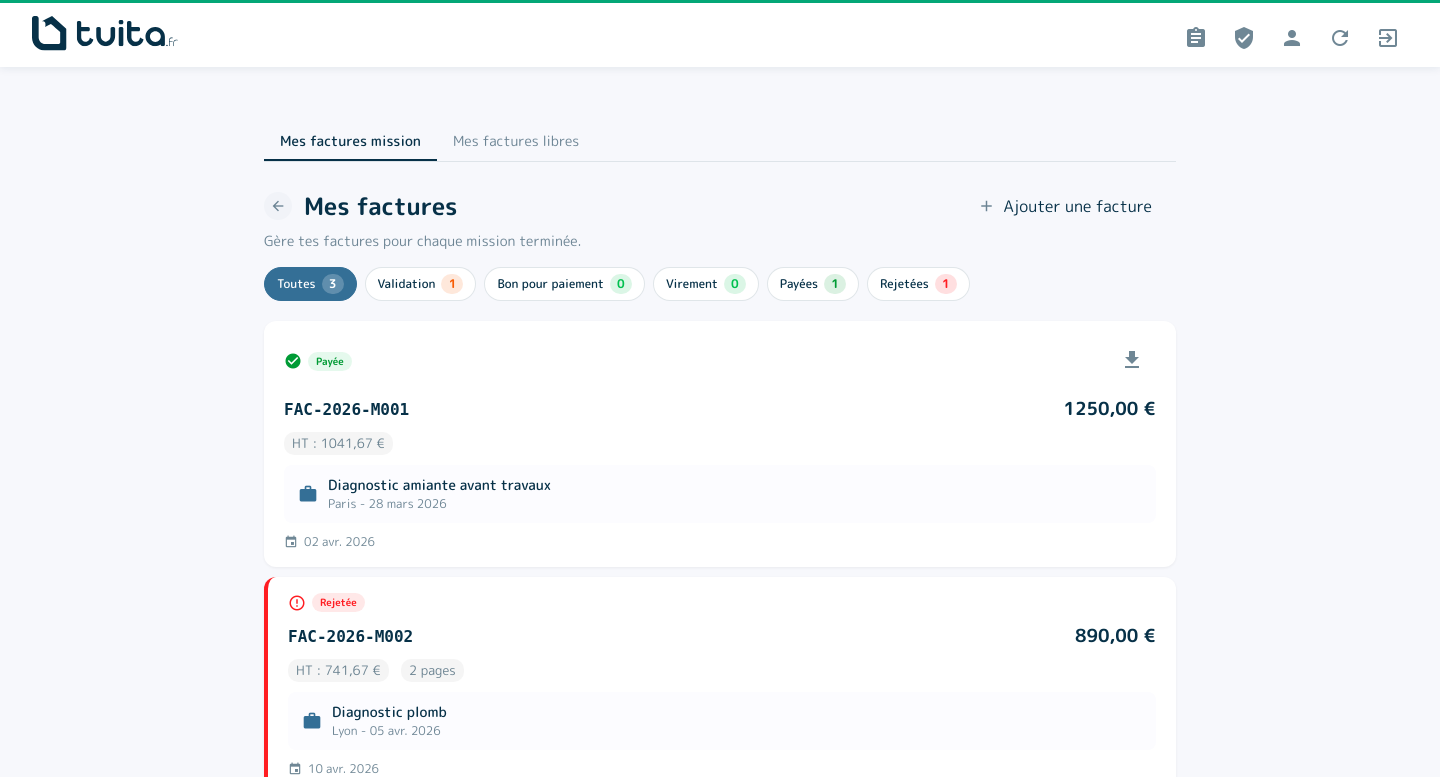
Test case: Plan Gratuit — Flow factures et souscription › Factures — rejet et correction › filtre les factures par statut rejetees
// Cliquer sur le chip de filtre « Rejetées ».
Step 1. Click the button "Rejetées 1" → point(919, 284), box [867, 267, 970, 301]
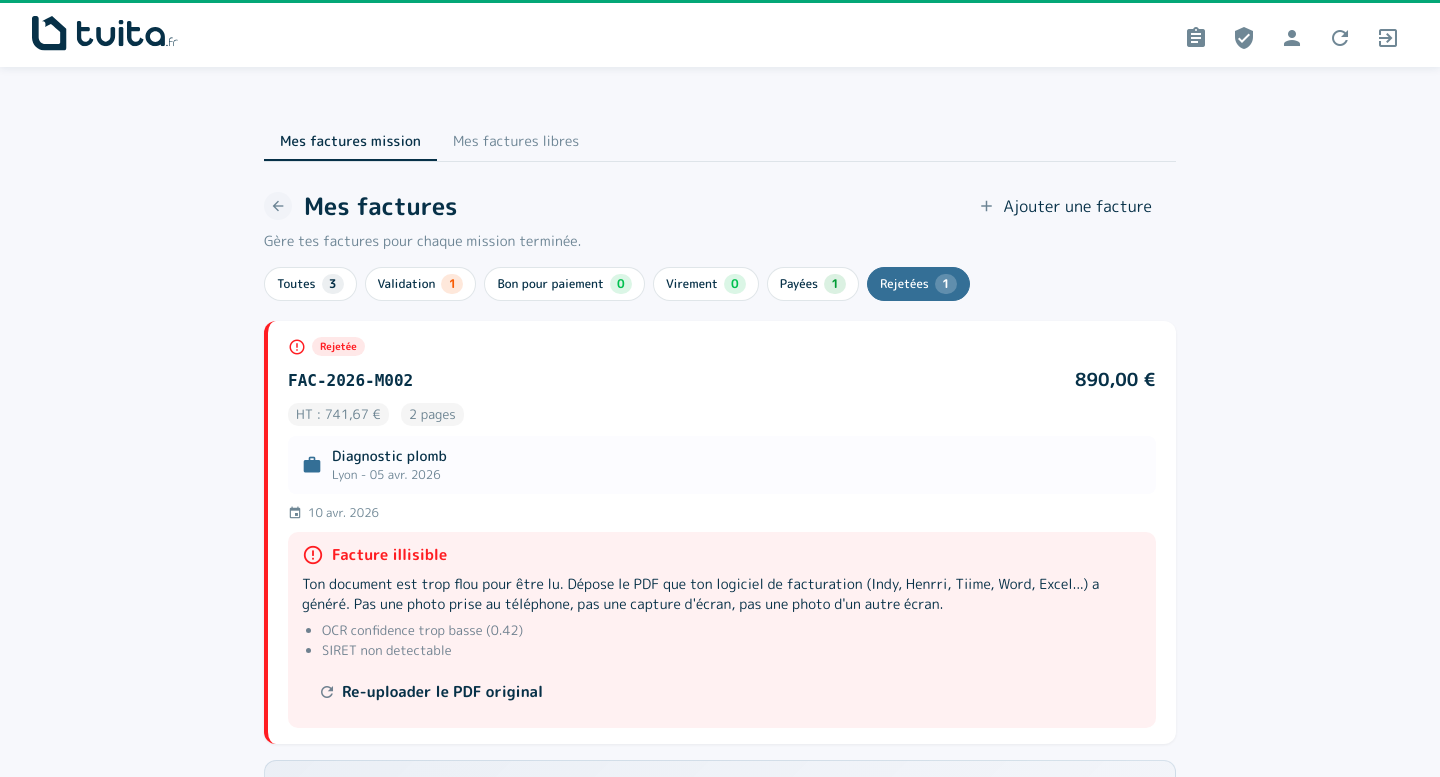
Check: the text "FAC-2026-M002" is shown, box [288, 371, 413, 390]
Check: the button "FAC-2026-M001" is gone
